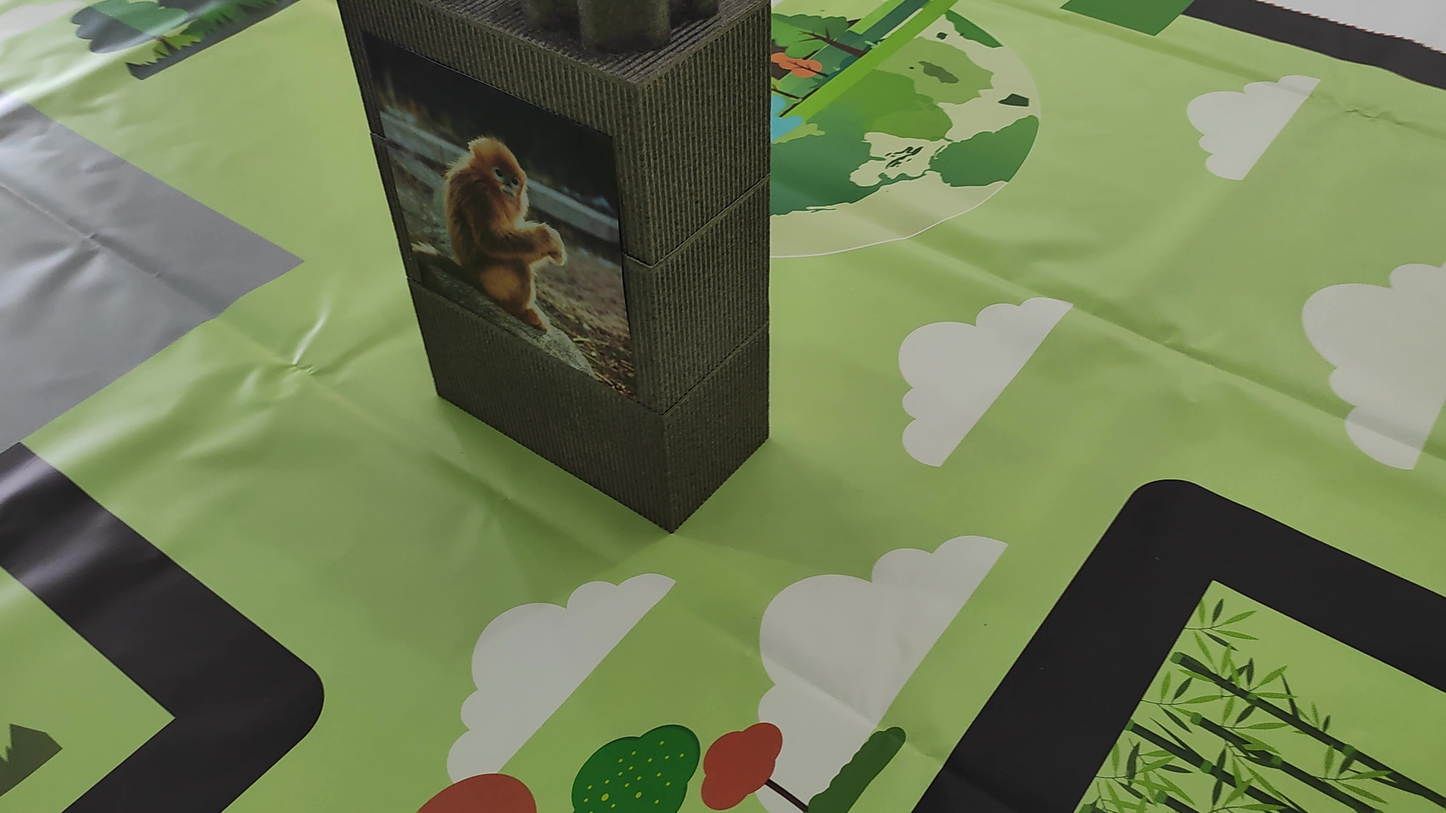monkey: (400, 95, 615, 337)
